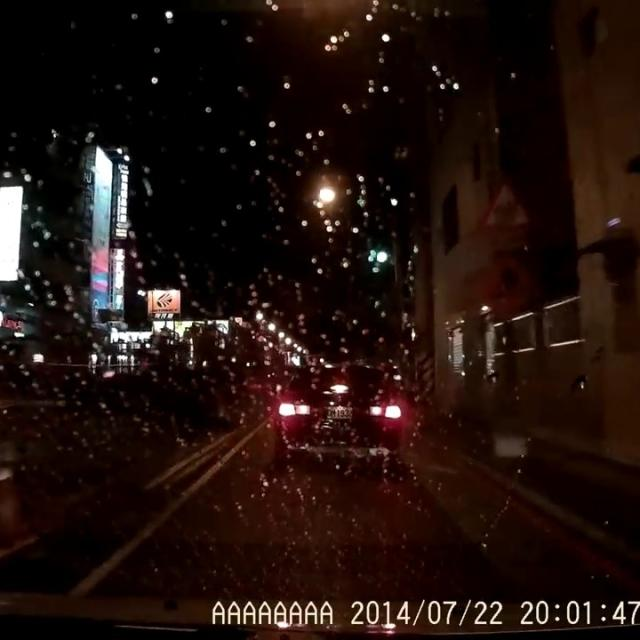Car: (270, 365, 403, 464)
